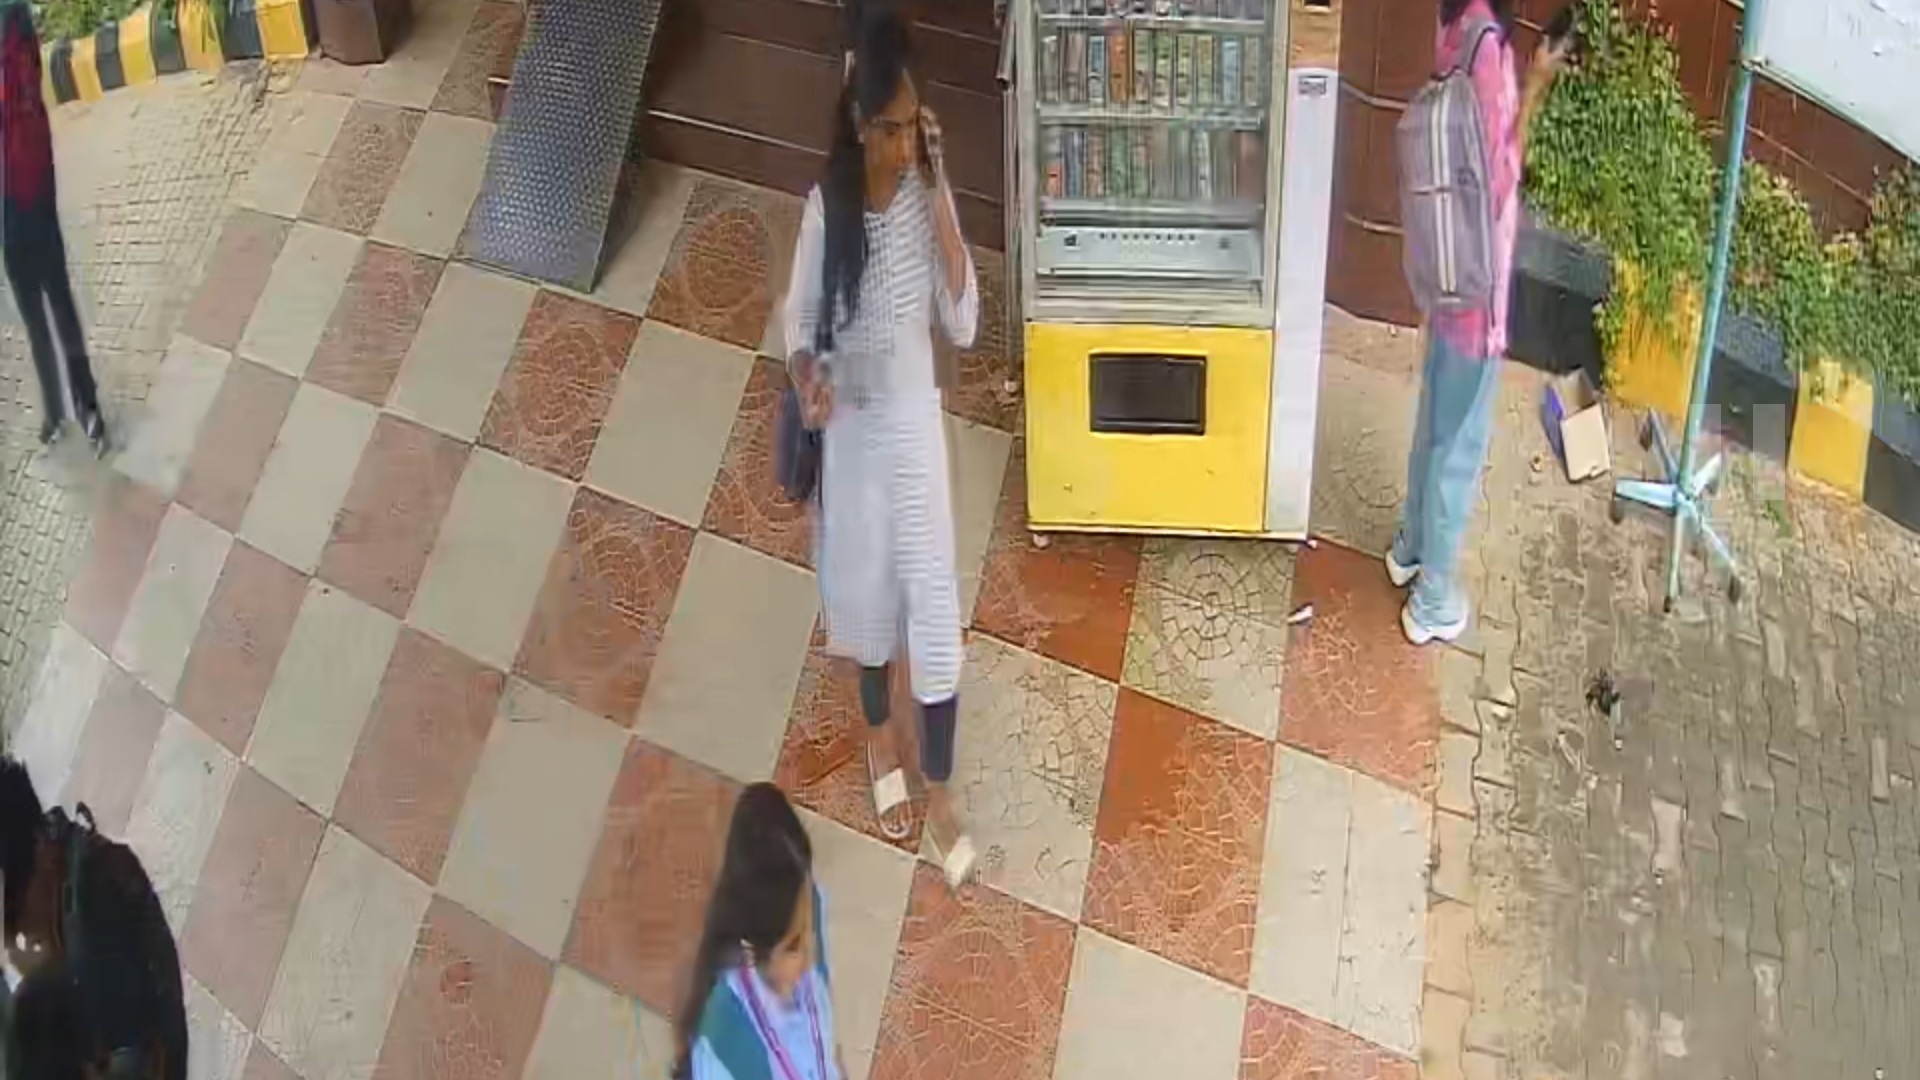intruder: (752, 17, 1002, 898)
